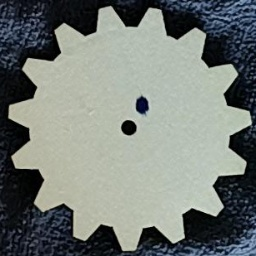Points: (134, 95, 151, 116)
